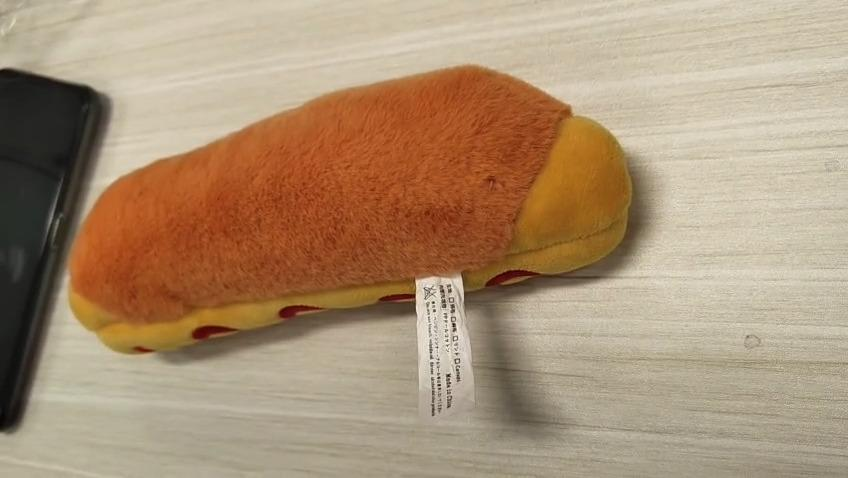hotdog: (72, 65, 634, 355)
